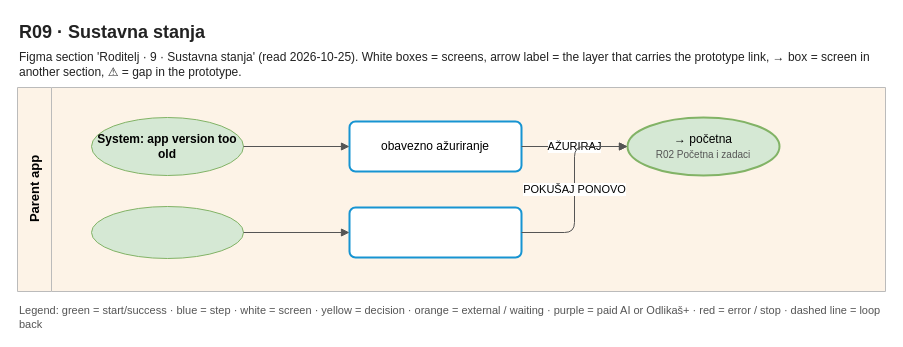
Some shapes in this 903 by 347 pixel diagram are drawn without their labels. Each missing label, with the centre of its shape:
"nema interneta" goes at (435,232).
"System: offline" goes at (167,232).
